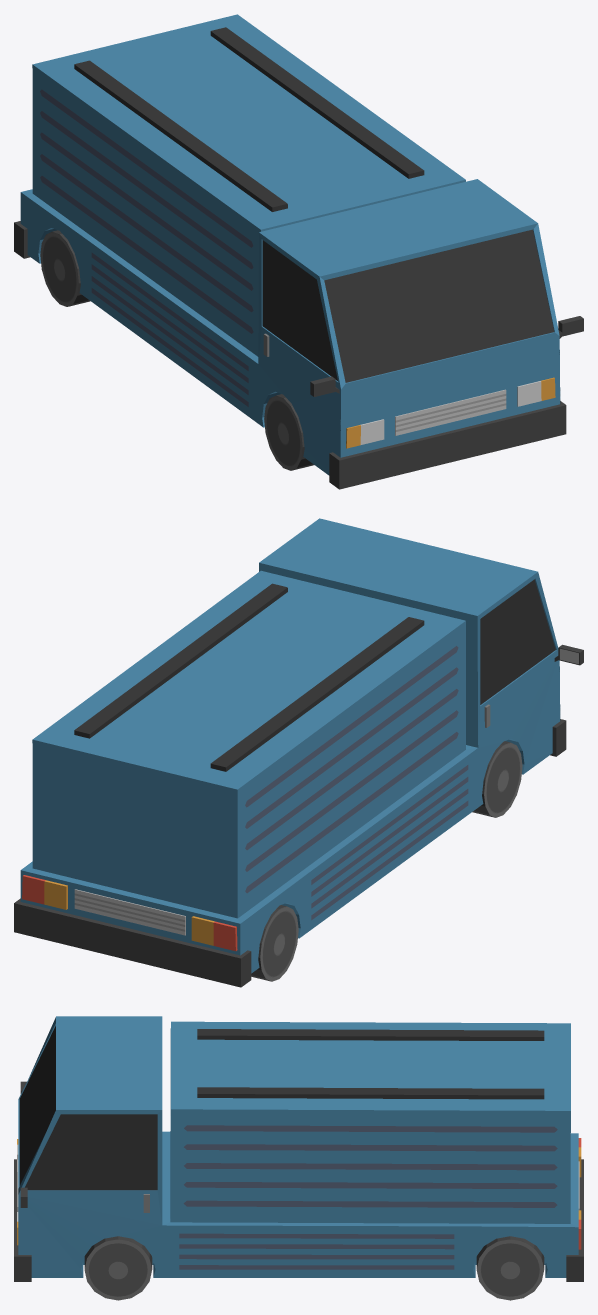
File: truck02_colo02.fbx
The picture shows the model from 3 angles, top to bottom: view 1: azimuth 30°, elevation 25°; view 2: azimuth 150°, elevation 25°; view 3: azimuth 270°, elevation 25°; orthographic projection. The views are drawn at different scales.
Visible parts, largest first — view 1: Cube.434, Cube.437, Cube.438; view 2: Cube.434, Cube.437, Cube.438; view 3: Cube.434, Cube.435, Cube.436.
Boxes of the visible parts, x1,y1,x2,y2 form: Cube.434: (14,14,583,489); Cube.437: (40,230,90,306); Cube.438: (264,394,313,470); Cube.434: (14,518,583,987); Cube.437: (251,905,298,981); Cube.438: (472,741,522,817); Cube.434: (14,1016,583,1281); Cube.435: (476,1236,544,1300); Cube.436: (84,1236,152,1300).
Bounding box in the file's own units: 351 × 273 × 734.
